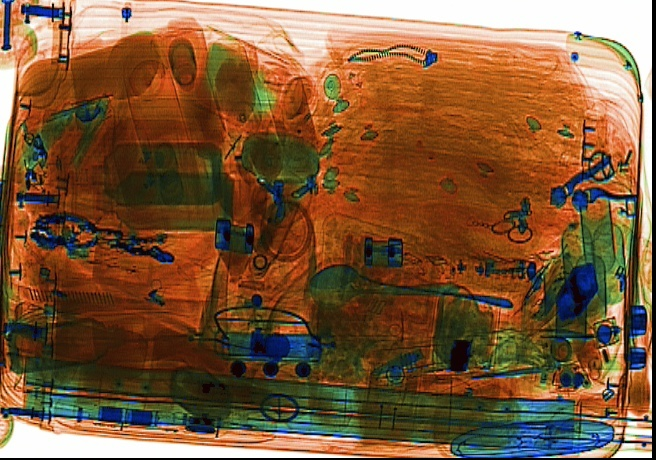pressure: (120, 40, 205, 213)
